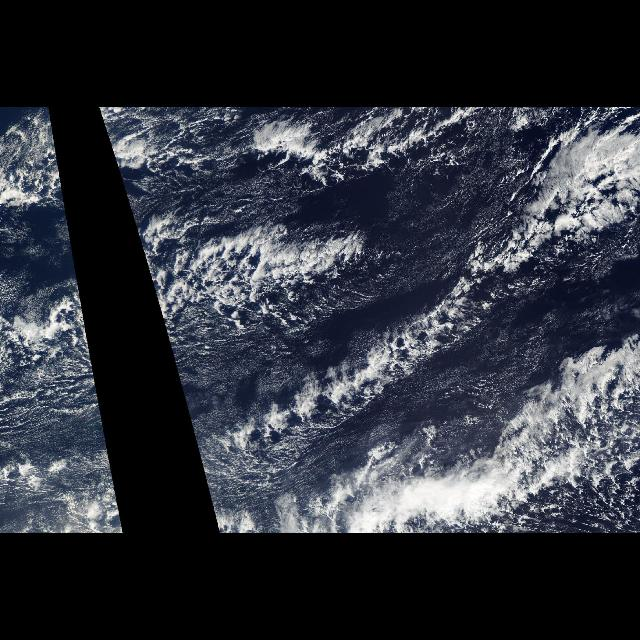Fish: (98, 110, 638, 492), (0, 110, 110, 458)
Gravel: (113, 107, 500, 191)
Sugar: (2, 375, 124, 533), (176, 376, 218, 526)
